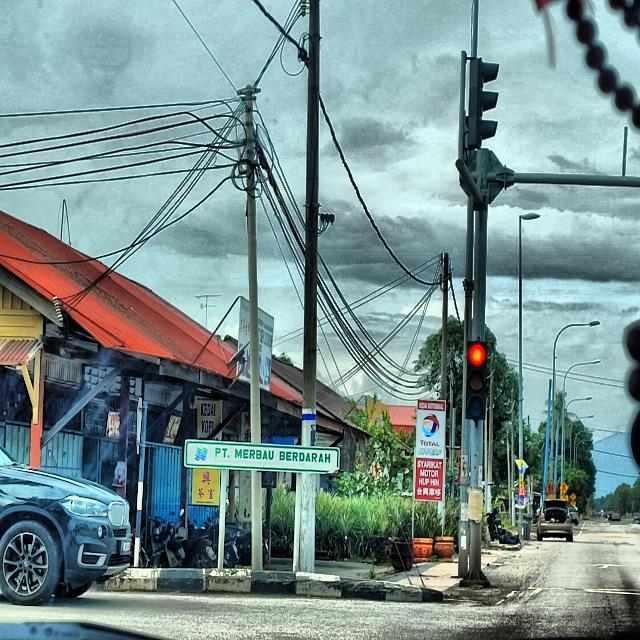red: (464, 339, 488, 420)
